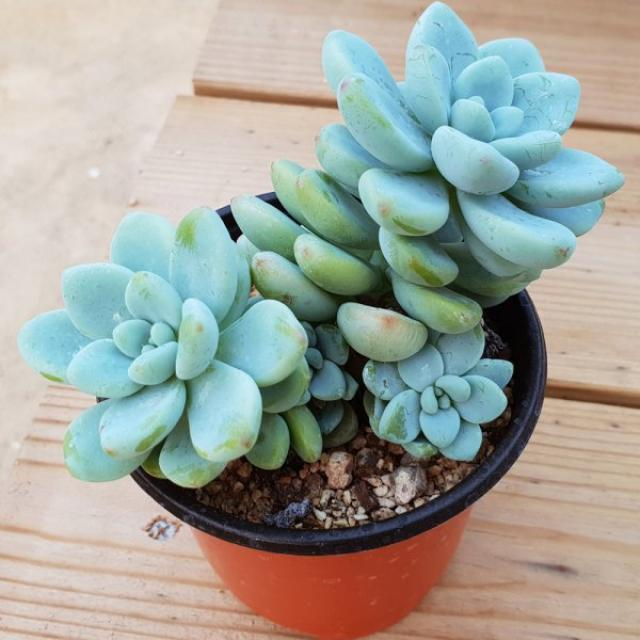LumiRose: (232, 4, 624, 333), (20, 208, 311, 479), (365, 324, 514, 461)
